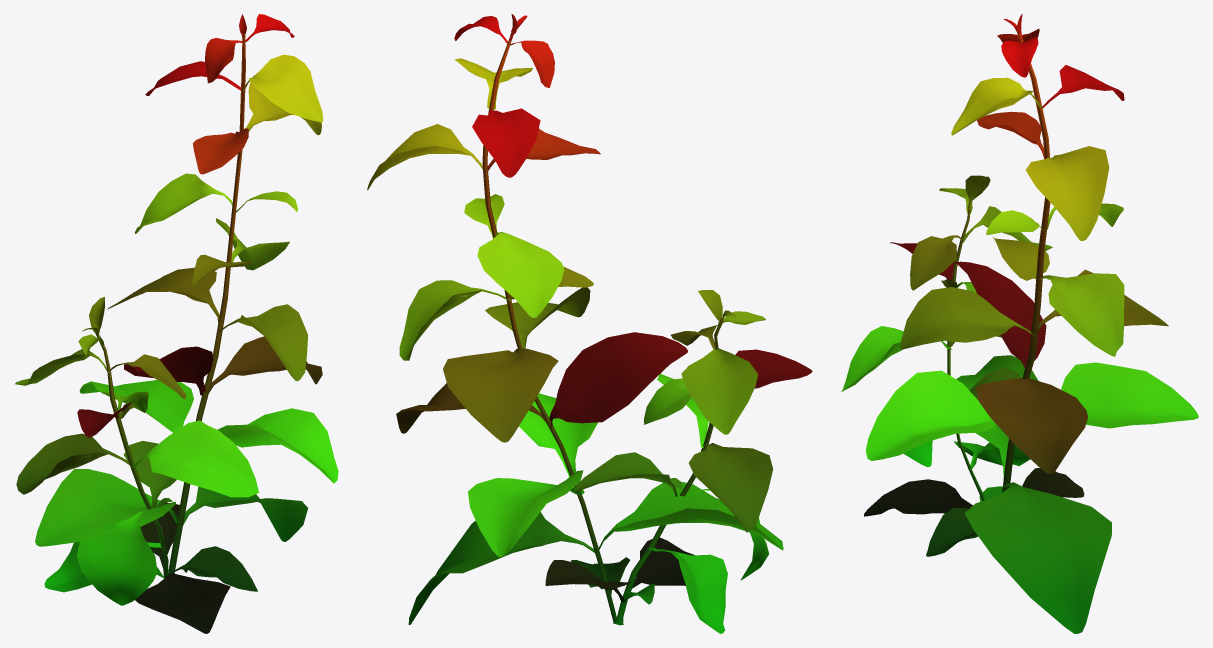
Rendered from SM_OW_Shrub_a_LOD0.fbx.
The picture shows the model from 3 angles, left to right: view 1: azimuth 30°, elevation 25°; view 2: azimuth 150°, elevation 25°; view 3: azimuth 270°, elevation 25°; orthographic projection. The views are drawn at different scales.
Parts seen in each view (by area): view 1: SM_OW_Shrub_a_LOD0; view 2: SM_OW_Shrub_a_LOD0; view 3: SM_OW_Shrub_a_LOD0.
Part boxes in pixels (<box>): SM_OW_Shrub_a_LOD0: <box>15,14,338,633</box>; SM_OW_Shrub_a_LOD0: <box>367,14,812,633</box>; SM_OW_Shrub_a_LOD0: <box>841,14,1198,633</box>.
Size of the model in its own units: 0.2308 by 0.3719 by 0.2057.
